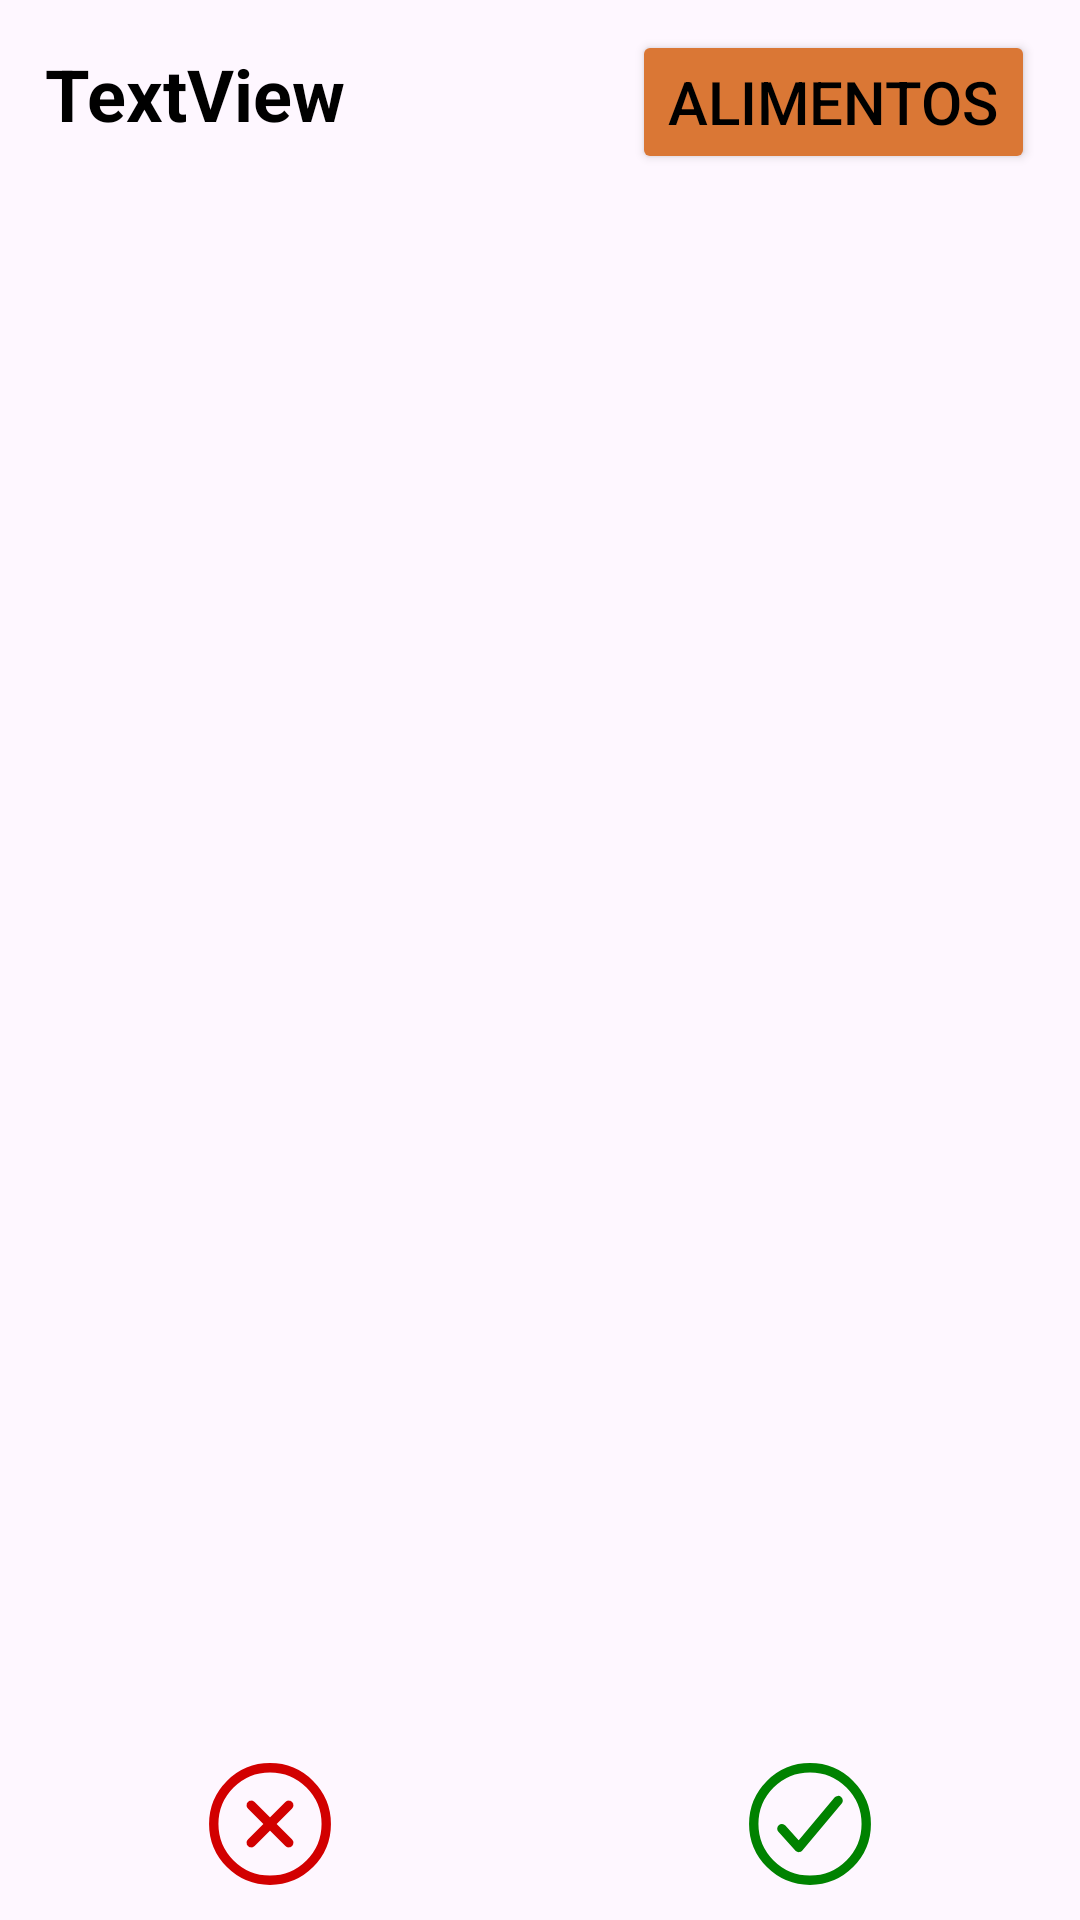

Point at icon controls on the screen. Image size 1080x1920, points as (x=x, y=y).
checkmark circle: (x=810, y=1824)
close circle: (x=270, y=1824)
